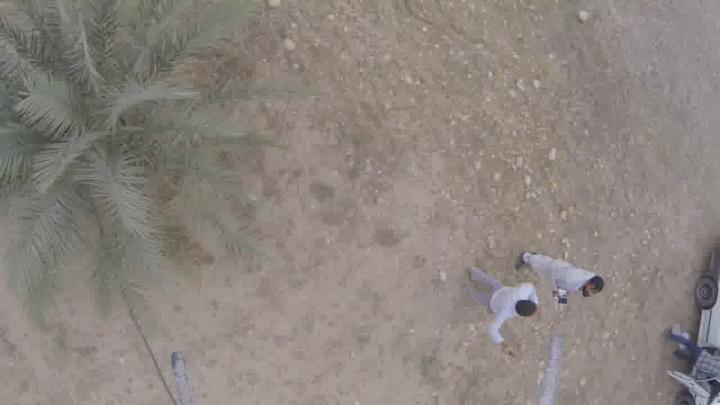Date-Palm-Crown: (0, 21, 204, 249)
